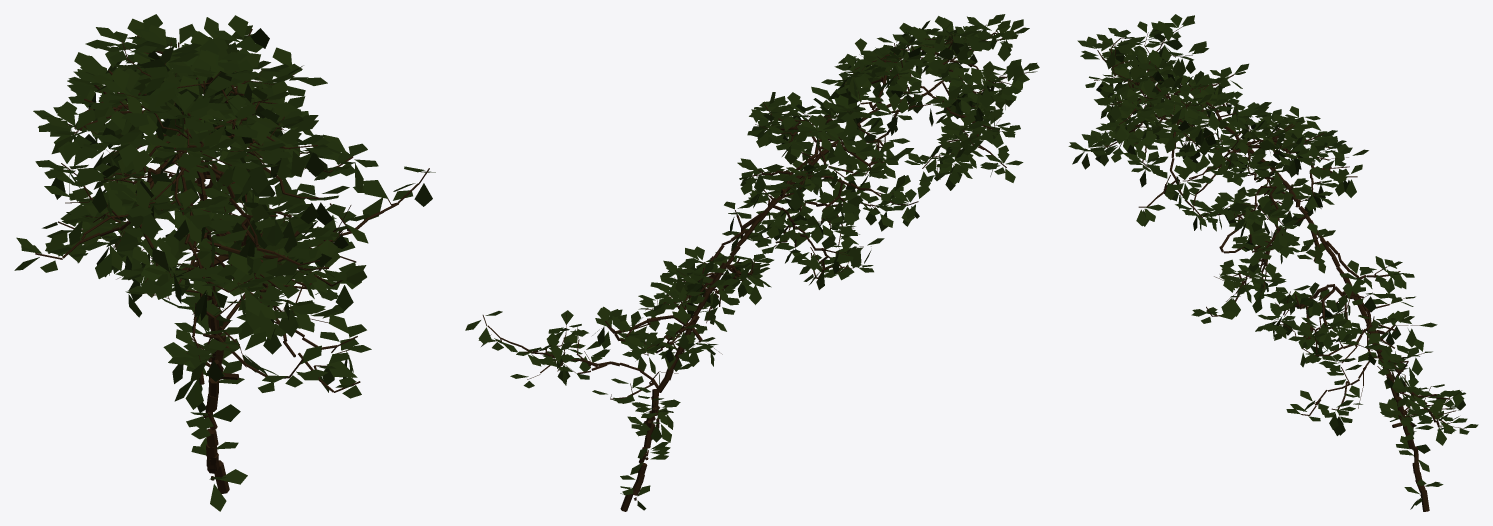
File: tree_449.obj
3 views of the same model, side by side, from view 1: azimuth 30°, elevation 25°; view 2: azimuth 150°, elevation 25°; view 3: azimuth 270°, elevation 25° (orthographic). The views are drawn at different scales.
Parts seen in each view (by area): view 1: Leaves, TrunkAndBranches; view 2: Leaves, TrunkAndBranches; view 3: Leaves, TrunkAndBranches.
Boxes of the visible parts, bbox=[...] form: Leaves: bbox=[14, 14, 435, 511]; TrunkAndBranches: bbox=[35, 29, 429, 493]; Leaves: bbox=[465, 14, 1039, 510]; TrunkAndBranches: bbox=[482, 24, 1028, 511]; Leaves: bbox=[1068, 14, 1478, 509]; TrunkAndBranches: bbox=[1084, 26, 1464, 511].
Bounding box in the file's own units: 6.35 × 6.56 × 5.99.
